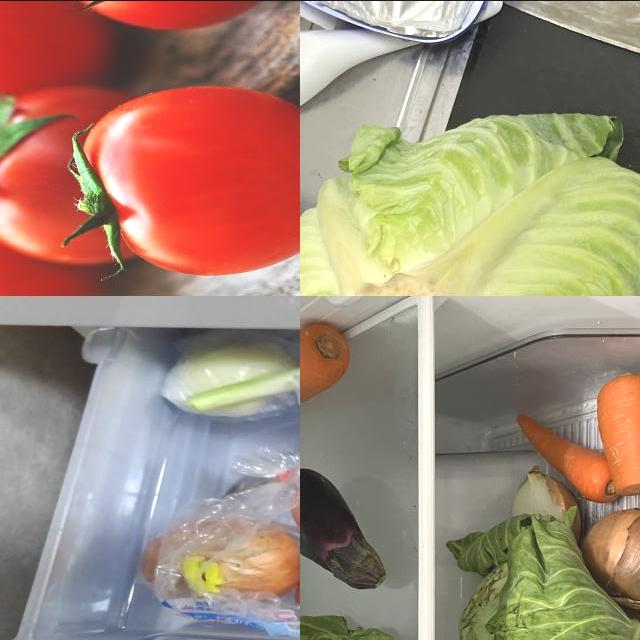cabbage: (301, 107, 640, 296), (447, 515, 640, 640)
carrot: (513, 409, 622, 504), (595, 367, 640, 500), (301, 317, 356, 425)
eggplant: (301, 465, 387, 594)
onion: (135, 512, 301, 607), (507, 463, 589, 552), (585, 505, 640, 611)
tomato: (65, 84, 301, 275), (1, 82, 148, 263), (1, 1, 123, 131), (1, 166, 105, 296), (42, 1, 287, 28)
